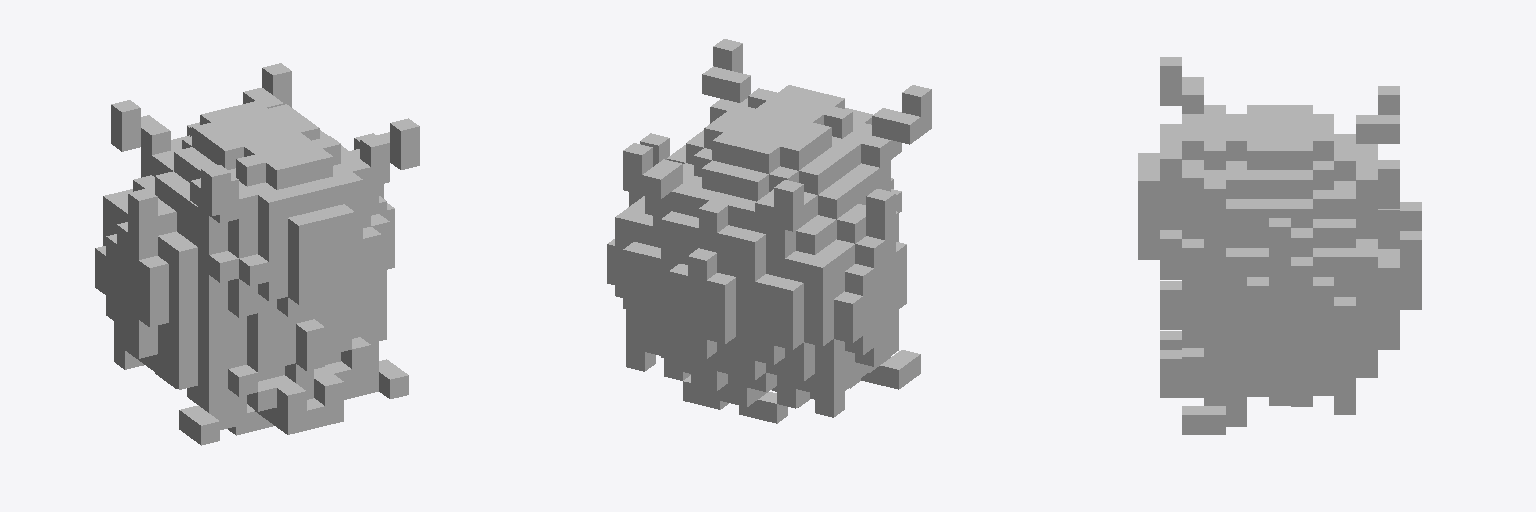
File: 8-Bit CacoDATT3-03.obj
The picture shows the model from 3 angles: view 1: azimuth 30°, elevation 25°; view 2: azimuth 150°, elevation 25°; view 3: azimuth 270°, elevation 25°; orthographic projection.
Bounding box in the file's own units: 13 × 15 × 13.